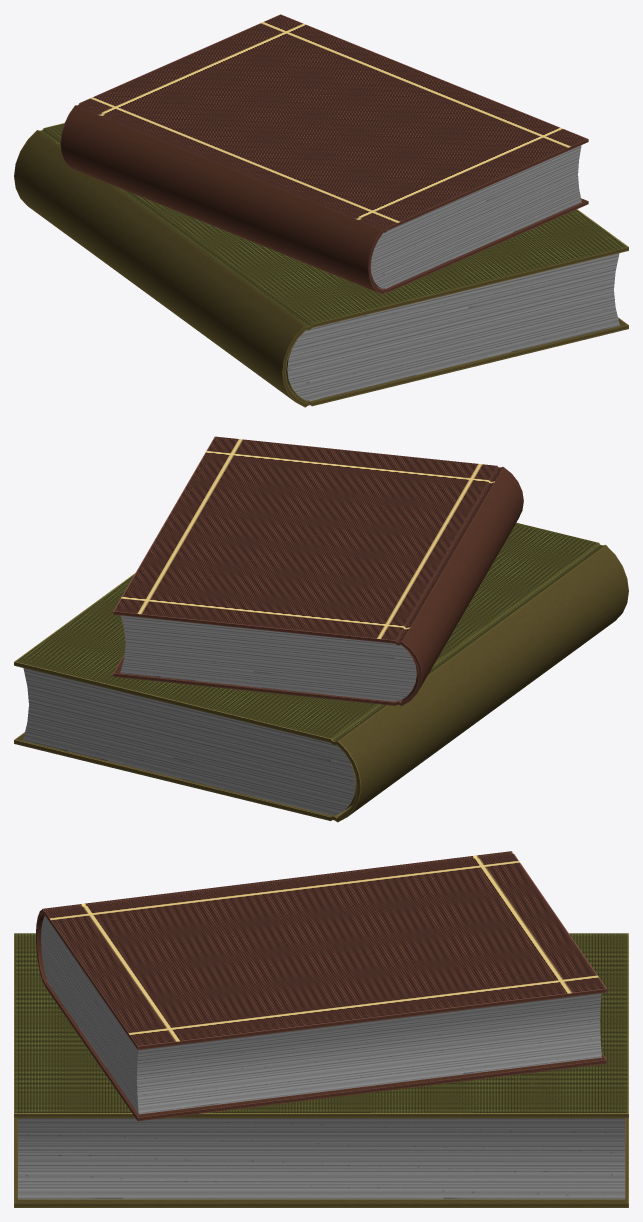
Rendered from book.obj.
3 renders of one model, top to bottom at view 1: azimuth 30°, elevation 25°; view 2: azimuth 150°, elevation 25°; view 3: azimuth 270°, elevation 25°, orthographic. The views are drawn at different scales.
Parts seen in each view (by area): view 1: brownbook_brownbook, greenbook_greenbook; view 2: brownbook_brownbook, greenbook_greenbook; view 3: brownbook_brownbook, greenbook_greenbook.
Part boxes in pixels (<box>): brownbook_brownbook: <box>60,14,588,294</box>; greenbook_greenbook: <box>14,123,628,407</box>; brownbook_brownbook: <box>113,436,523,706</box>; greenbook_greenbook: <box>14,522,628,822</box>; brownbook_brownbook: <box>36,851,606,1121</box>; greenbook_greenbook: <box>14,933,628,1207</box>.
Bounding box in the file's own units: 0.256 × 0.098 × 0.3234.
Materials: 2 (2 with a texture image).
